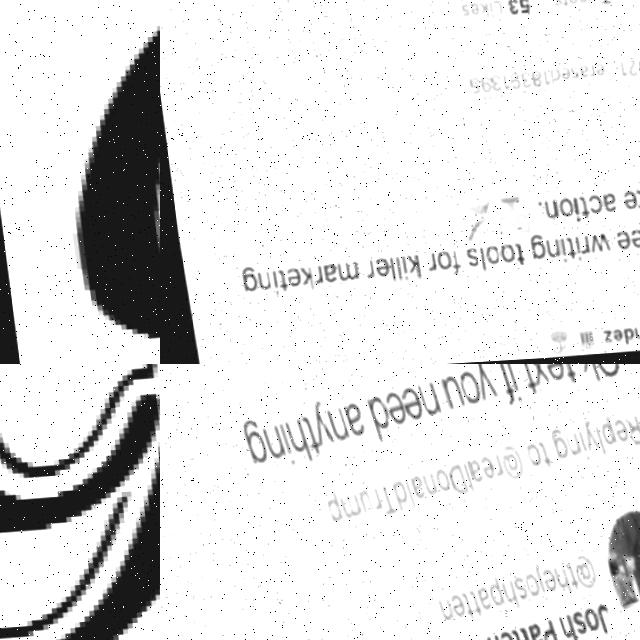0: (628, 64, 639, 81)
1: (610, 63, 619, 83), (532, 74, 542, 91), (493, 78, 502, 95)
2: (617, 65, 629, 82)
3: (512, 76, 523, 93), (482, 79, 493, 96), (501, 2, 512, 19)
5: (459, 81, 471, 98), (511, 1, 523, 17)
6: (0, 364, 160, 640)
8: (521, 75, 533, 92)
9: (471, 80, 483, 97), (501, 77, 512, 94)
D: (29, 0, 160, 359)
